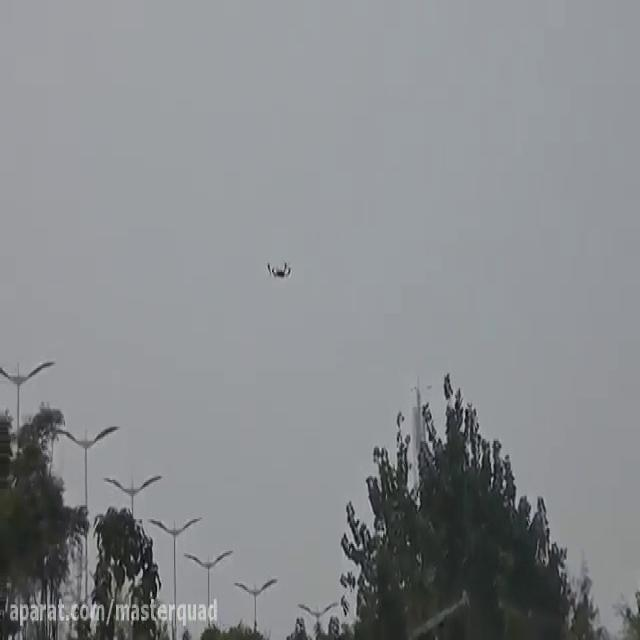drone: (263, 252, 293, 282)
